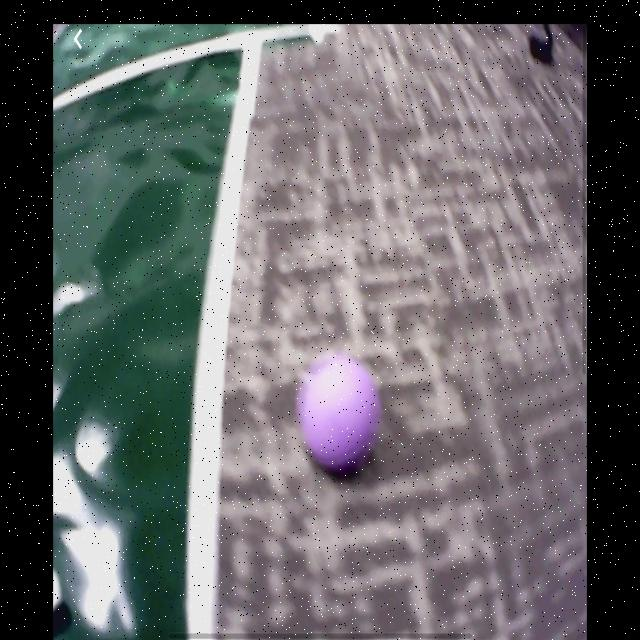ball: (302, 359, 380, 471)
